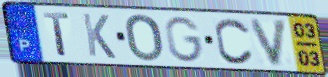C: (213, 16, 256, 66)
G: (163, 15, 205, 64)
K: (80, 12, 118, 61)
O: (123, 13, 165, 63)
T: (41, 11, 72, 58)
V: (247, 17, 291, 68)
